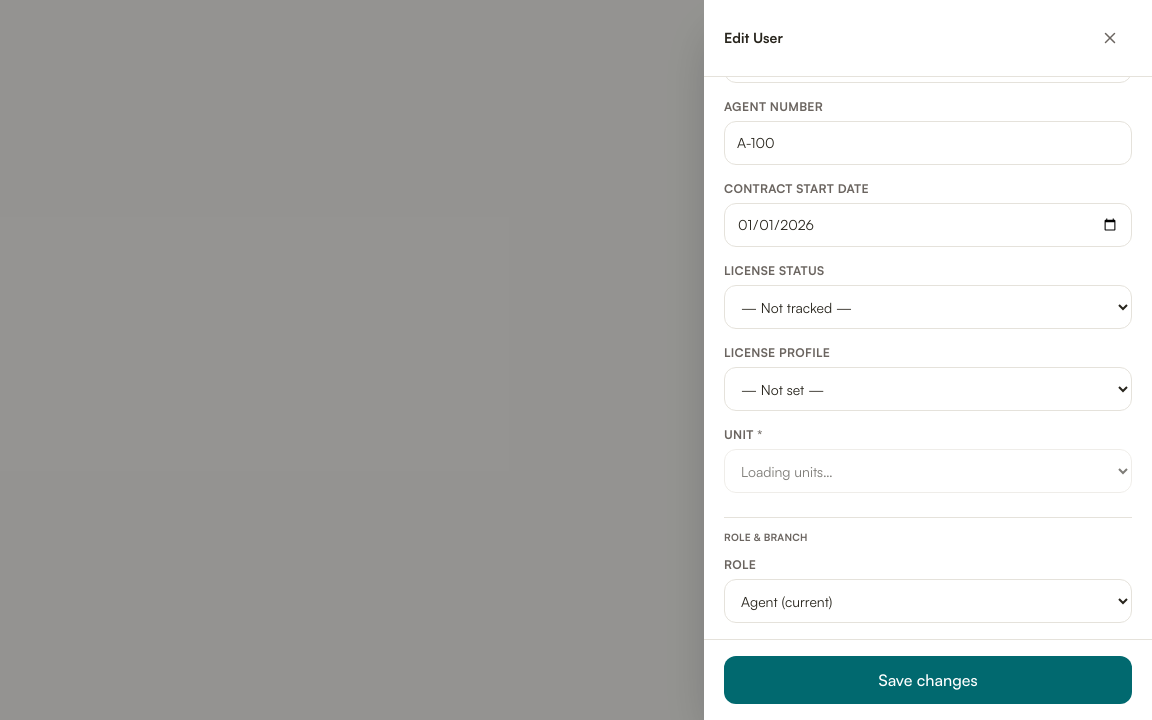
Test: EditUserDrawer › role change opens role-change ConfirmDialog with sign-out warning
(page scrolled)
Select "Unit Manager" in the dropdown with test id "edit-user-role": (928, 601) [724,579,1132,623]
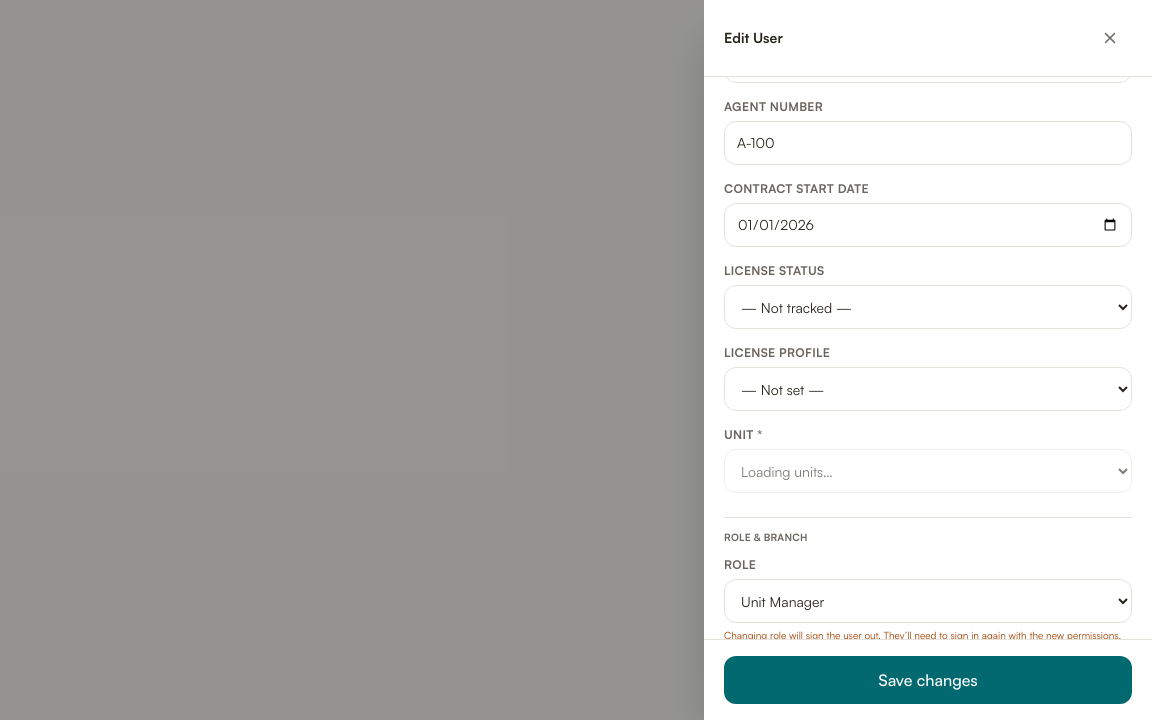
Click the button "Save changes": (928, 680) [724,656,1132,704]
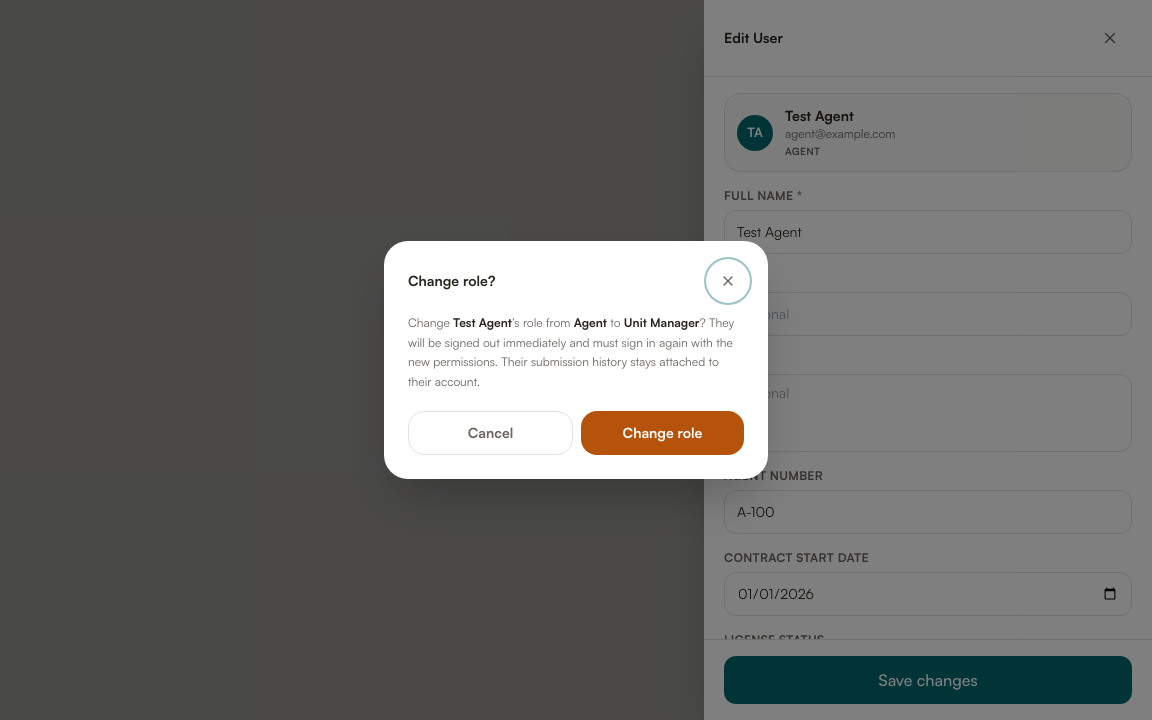
expect the text "Change role?" is shown: met, box [408,271,496,291]
expect the text "signed out immediately" is shown: met, box [408,315,734,388]
